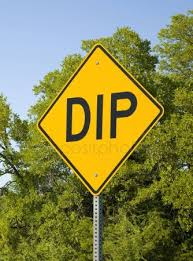dip: (39, 43, 168, 195)
